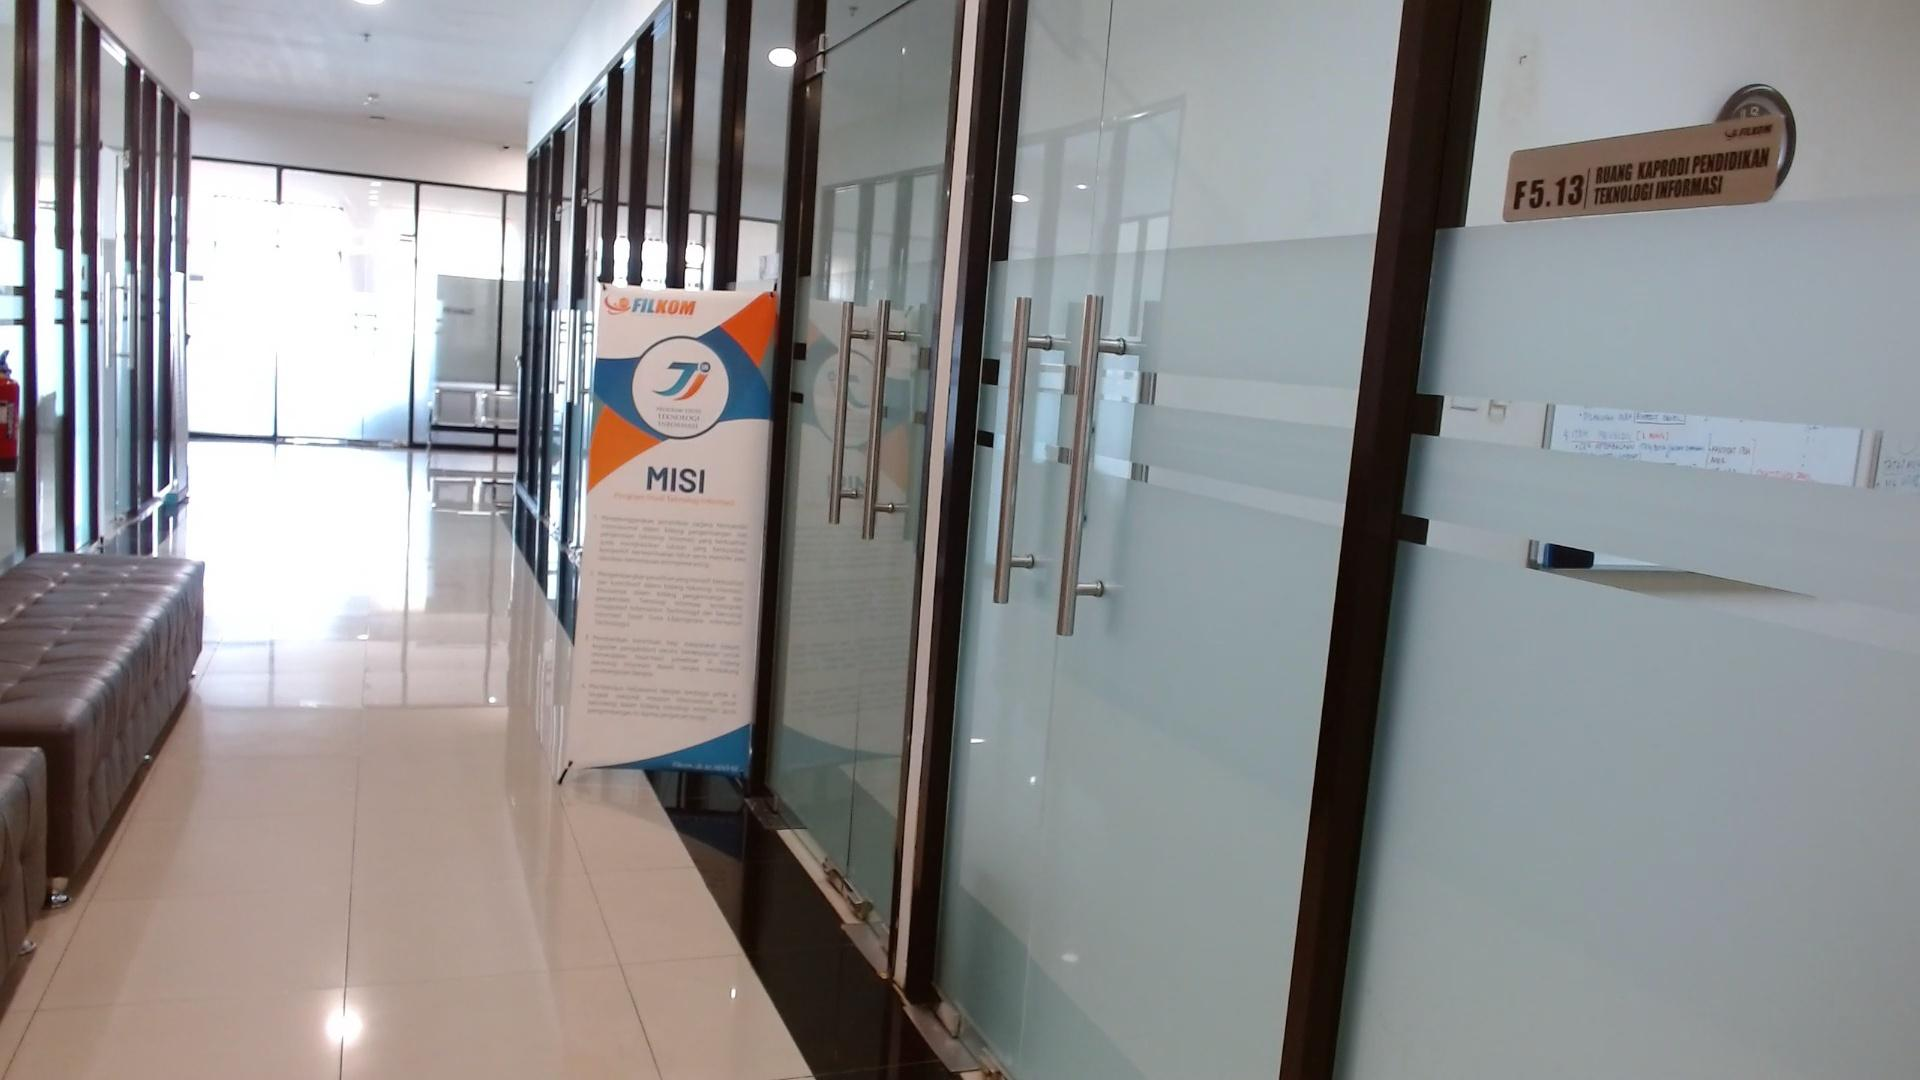plate: (1502, 113, 1784, 223)
